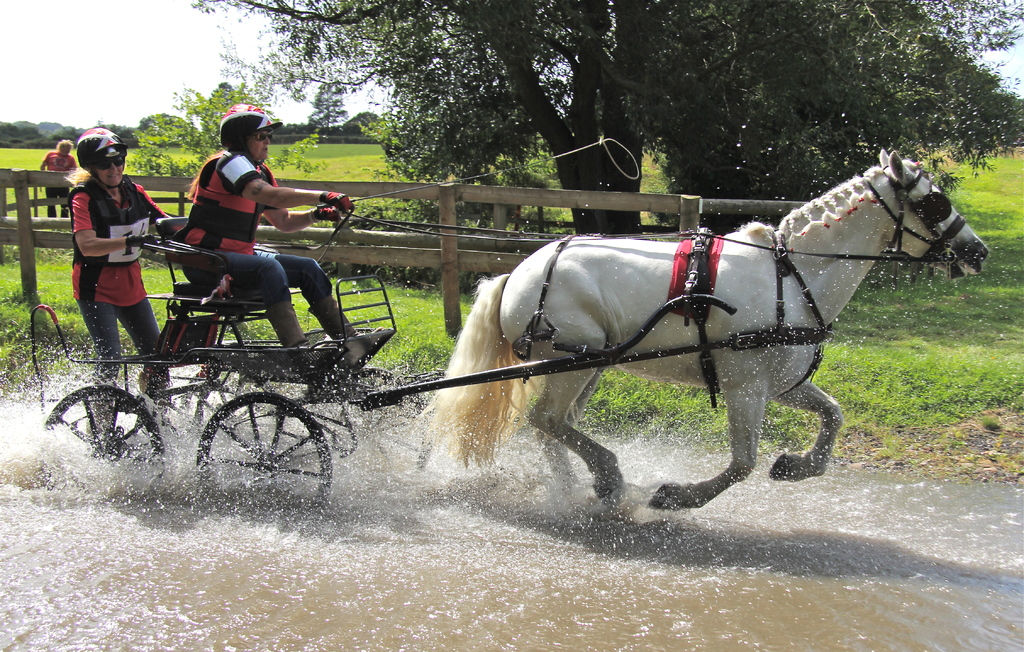Tree: (0, 0, 1024, 234)
